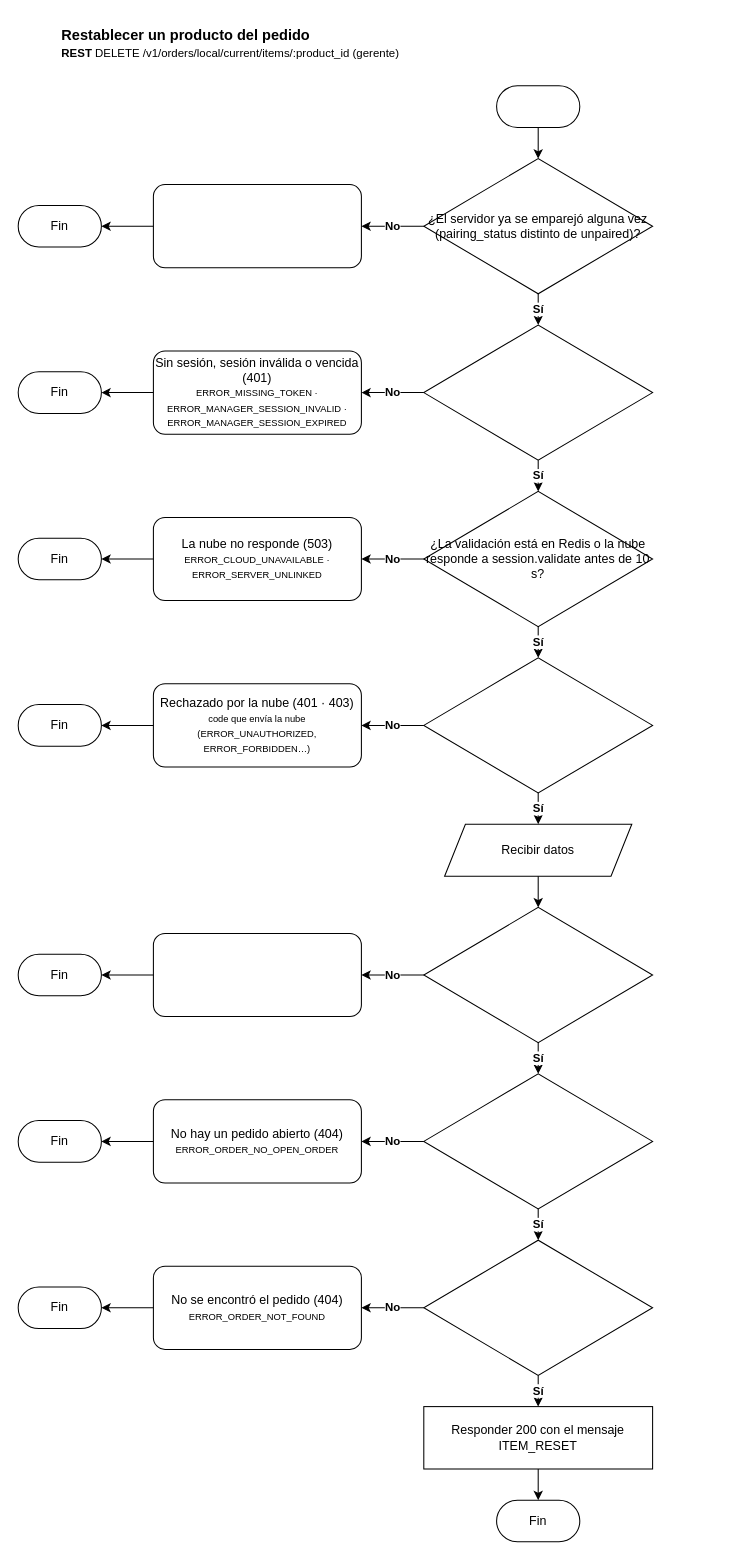
Image size: 744x1560. Some labels were removed from this diagram. Each missing label, with the box of its shape:
Datos inválidos (400) ERROR_BAD_REQUEST: (152, 932, 361, 1017)
Inicio: (496, 85, 580, 127)
Servidor sin emparejar (409) ERROR_SERVER_NOT_PAIRED: (152, 184, 361, 268)
¿Existe el pedido?: (423, 1239, 653, 1375)
¿Hay un pedido abierto?: (423, 1073, 653, 1209)
¿La nube acepta la sesión del gerente con este servidor?: (423, 657, 653, 793)
¿Los datos son válidos?: (423, 906, 653, 1043)
¿Trae una sesión de gerente válida (Bearer mss_..., sin 30 min de inactividad)?: (423, 324, 653, 460)
